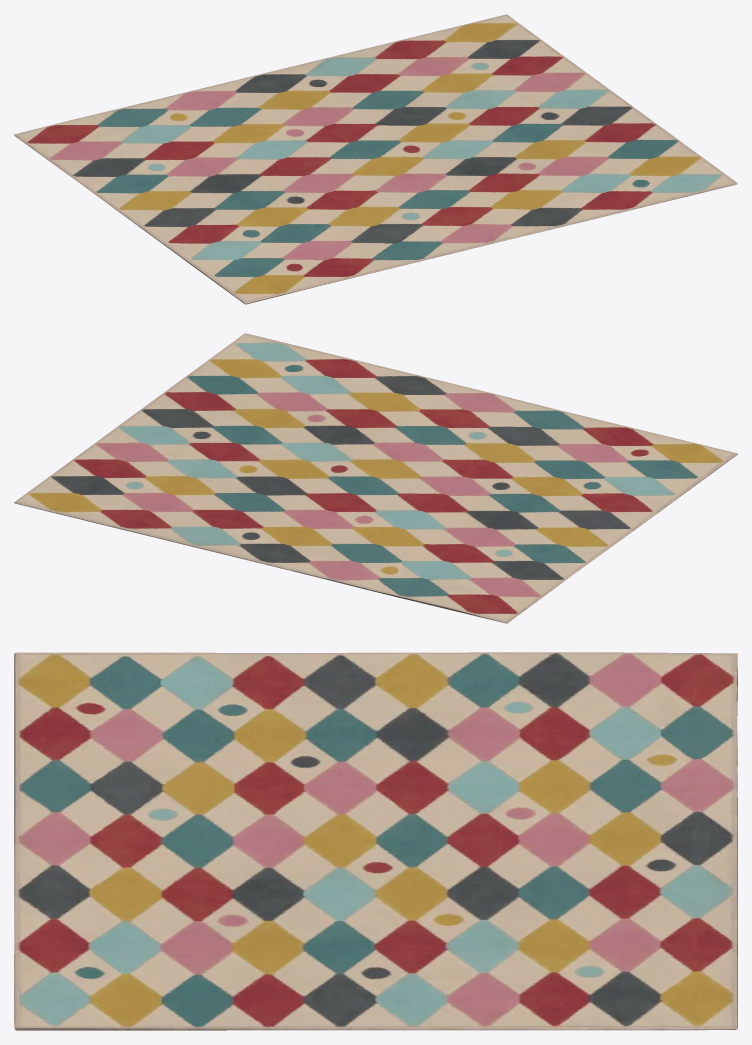
Rendered from 60520427-mini.glb.
The picture shows the model from 3 angles, top to bottom: view 1: azimuth 30°, elevation 25°; view 2: azimuth 150°, elevation 25°; view 3: azimuth 270°, elevation 25°; orthographic projection. The views are drawn at different scales.
Parts seen in each view (by area): view 1: ProcessedMeshNode; view 2: ProcessedMeshNode; view 3: ProcessedMeshNode.
Boxes of the visible parts, <box> form: ProcessedMeshNode: <box>14,14,737,304</box>; ProcessedMeshNode: <box>14,333,737,623</box>; ProcessedMeshNode: <box>14,652,737,1030</box>.
Bounding box in the file's own units: 1.6 × 0.00625 × 1.3.
Materials: 1 (1 with a texture image).
